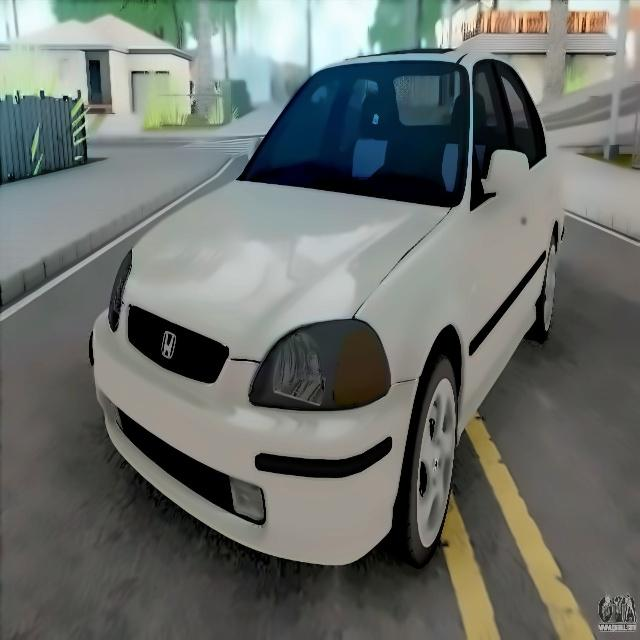Car hood: (130, 173, 456, 359)
Fender - -F-L-: (342, 199, 485, 482)
Front bumper: (81, 307, 418, 568)
Headlight - -L-: (247, 314, 391, 413)
Headlight - -R-: (103, 248, 133, 337)
Passenger-s door - -F-L-: (456, 33, 538, 451)
Side bumper - -L-: (452, 308, 541, 448)
Side mirror - -L-: (481, 143, 535, 210)
